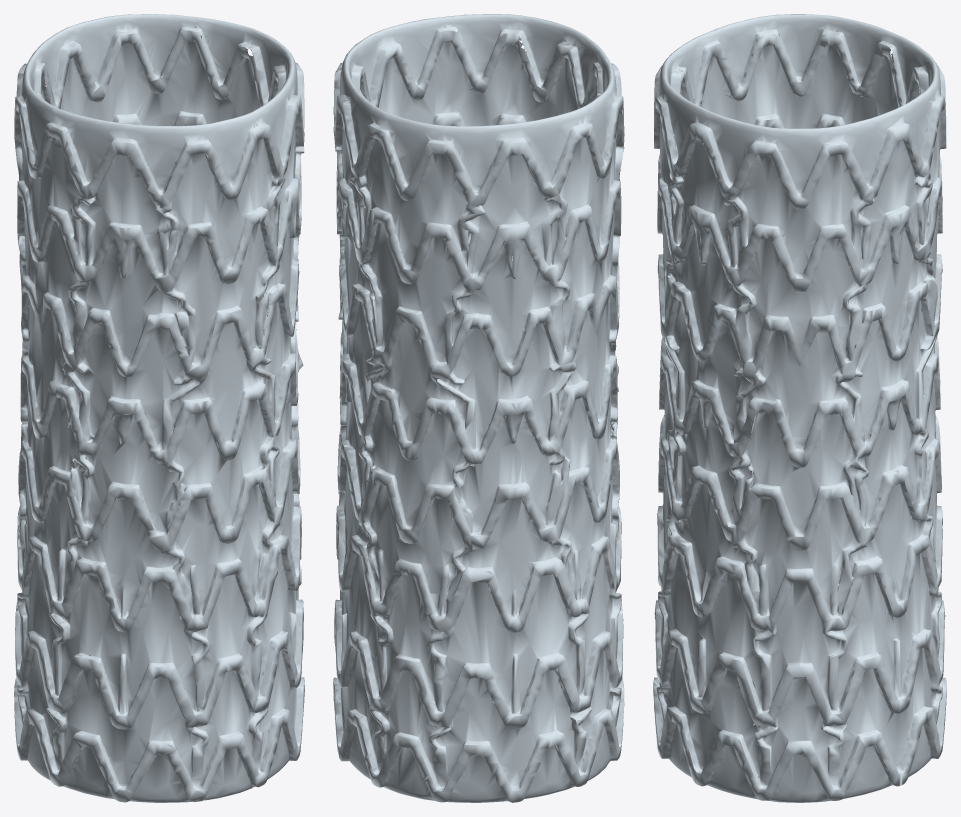
Rendered from aero-laser-cut-covered.glb.
3 views of the same model, side by side, from view 1: azimuth 30°, elevation 25°; view 2: azimuth 150°, elevation 25°; view 3: azimuth 270°, elevation 25° (orthographic).
Parts seen in each view (by area): view 1: aero-laser-cut-covered-01; view 2: aero-laser-cut-covered-01; view 3: aero-laser-cut-covered-01.
Part boxes in pixels (x1,y1,x2,y2): aero-laser-cut-covered-01: [14, 14, 304, 802]; aero-laser-cut-covered-01: [333, 14, 624, 802]; aero-laser-cut-covered-01: [653, 14, 946, 802].
Size of the model in its own units: 0.7867 by 2 by 0.7871.
